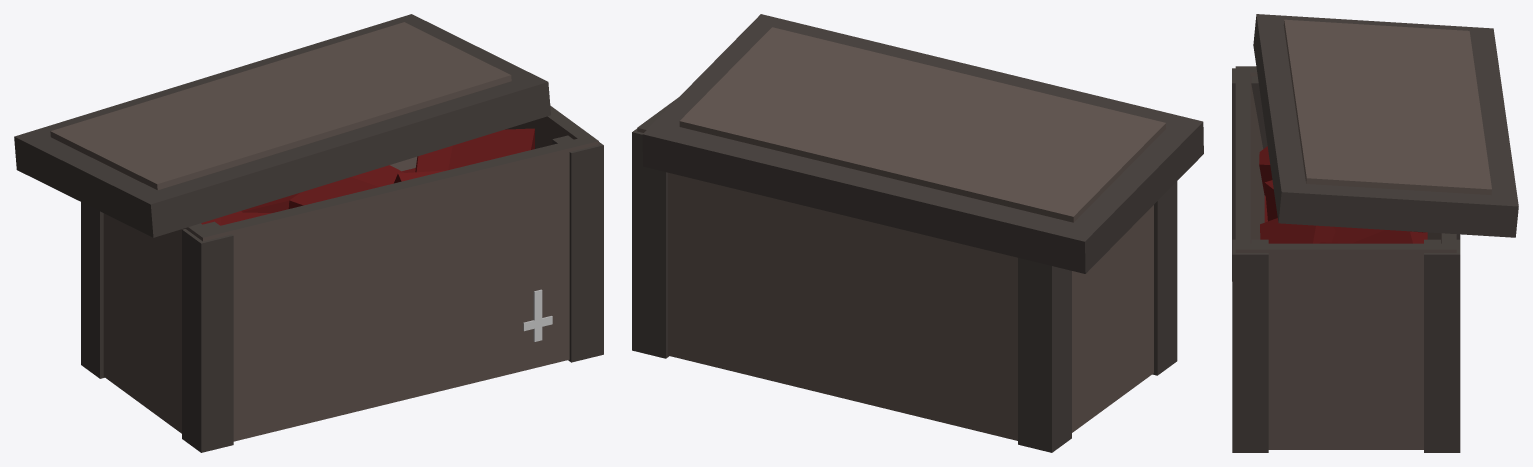
Rendered from ChurchDarkChest.glb.
3 renders of one model, left to right at view 1: azimuth 30°, elevation 25°; view 2: azimuth 150°, elevation 25°; view 3: azimuth 270°, elevation 25°, orthographic. The views are drawn at different scales.
Parts seen in each view (by area): view 1: DarkBlocksChest; view 2: DarkBlocksChest; view 3: DarkBlocksChest.
Part boxes in pixels (x1,y1,x2,y2): DarkBlocksChest: [14, 14, 603, 452]; DarkBlocksChest: [632, 14, 1203, 452]; DarkBlocksChest: [1232, 14, 1518, 452].
Size of the model in its own units: 0.8999 by 0.5021 by 0.5217.
Materials: 1 (1 with a texture image).
